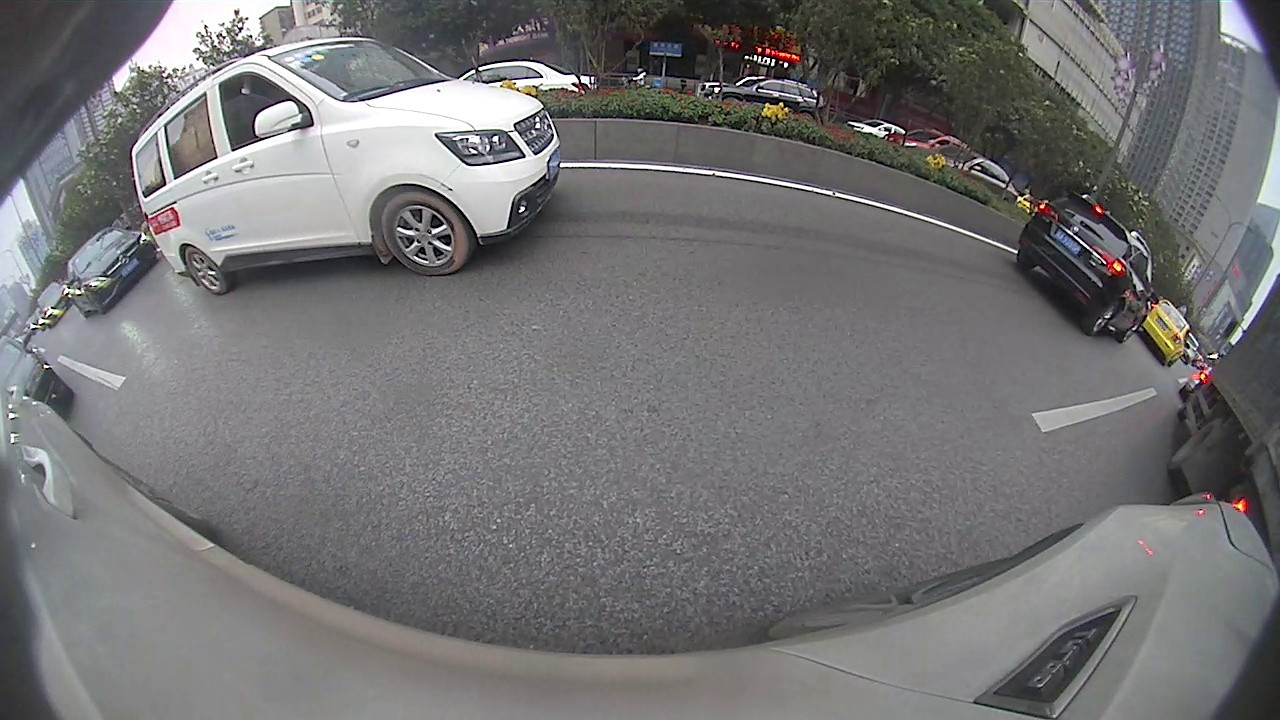car: (1078, 247, 1258, 374), (865, 164, 998, 240), (757, 158, 834, 200), (616, 157, 655, 188)
front: (1093, 268, 1118, 294), (868, 194, 886, 215)
rear: (1188, 328, 1218, 363), (924, 206, 943, 232), (782, 180, 794, 195)
